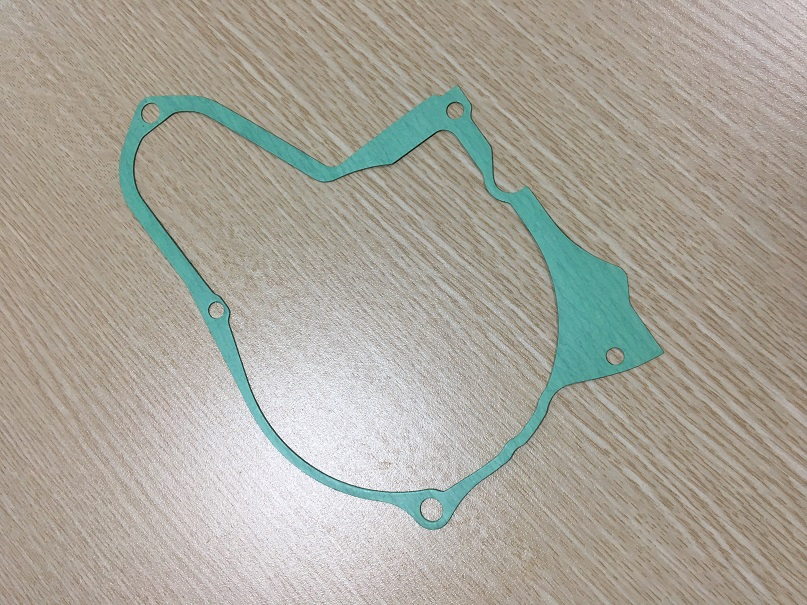type1: (112, 82, 670, 533)
